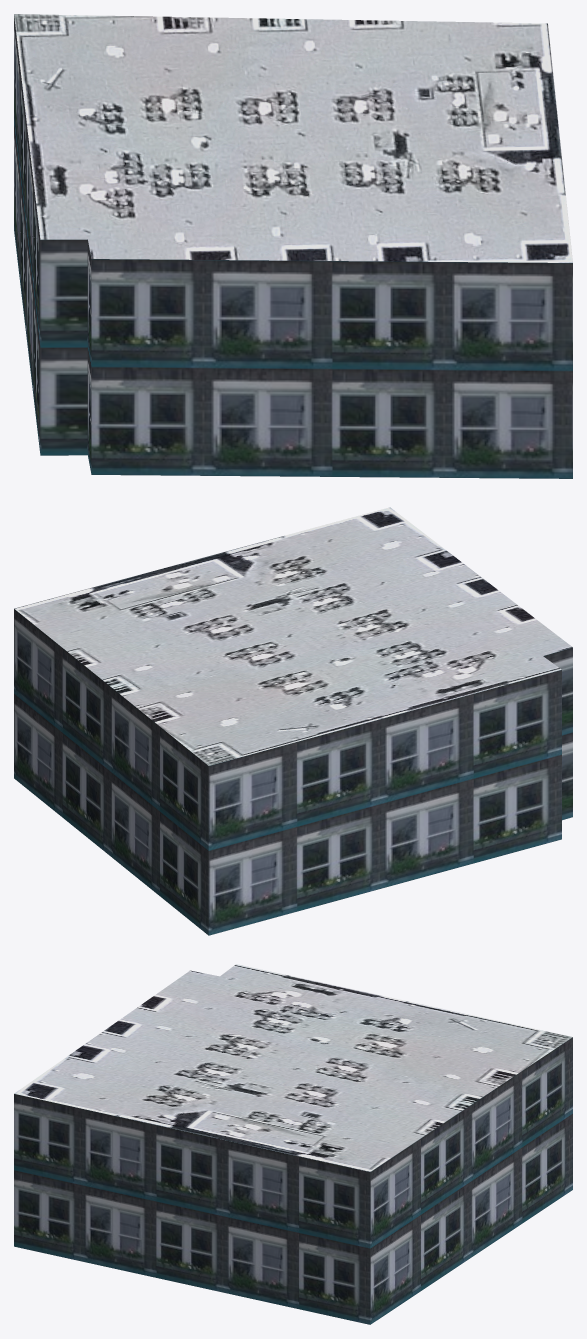
The model's file is ResTex__3996.fbx.
3 views of the same model, one above another, from view 1: azimuth 30°, elevation 25°; view 2: azimuth 150°, elevation 25°; view 3: azimuth 270°, elevation 25° (orthographic). The views are drawn at different scales.
Visible parts, largest first — view 1: CityEngineMaterial_4_m, CityEngineMaterial_11_m; view 2: CityEngineMaterial_11_m, CityEngineMaterial_4_m; view 3: CityEngineMaterial_11_m, CityEngineMaterial_4_m.
Boxes of the visible parts, bbox=[...] form: CityEngineMaterial_4_m: bbox=[14, 14, 572, 262]; CityEngineMaterial_11_m: bbox=[14, 15, 572, 478]; CityEngineMaterial_11_m: bbox=[14, 609, 572, 935]; CityEngineMaterial_4_m: bbox=[14, 507, 572, 765]; CityEngineMaterial_11_m: bbox=[14, 1037, 572, 1324]; CityEngineMaterial_4_m: bbox=[14, 964, 572, 1171].
Bounding box in the file's own units: 17.52 × 6 × 19.89.
2 materials, 2 textured.
